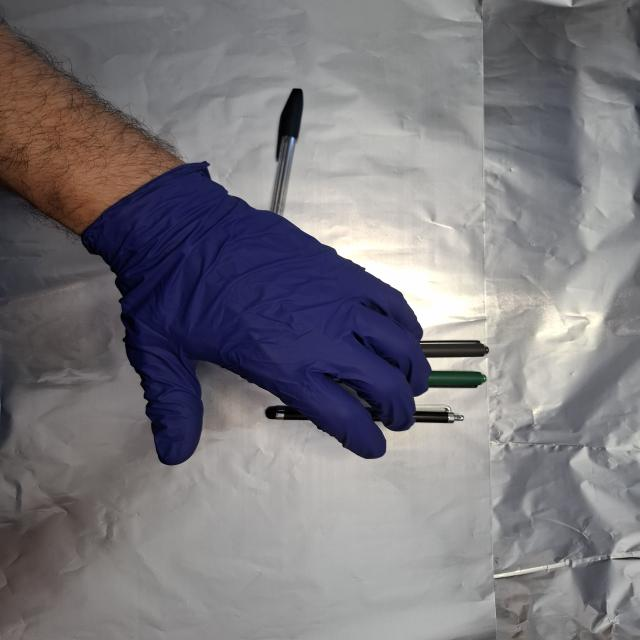glove_on: (94, 160, 436, 468)
